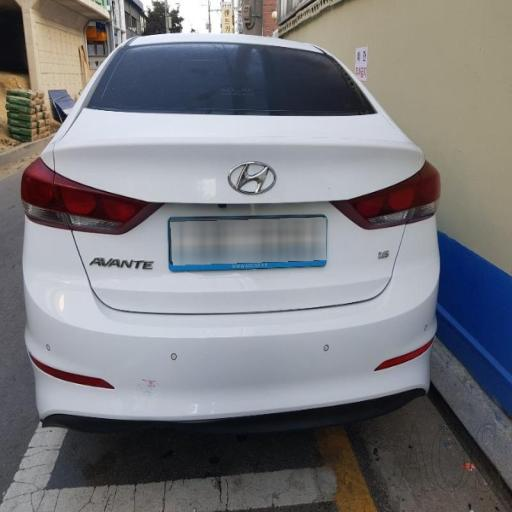dent: (188, 146, 232, 206)
scratch: (130, 328, 392, 408)
